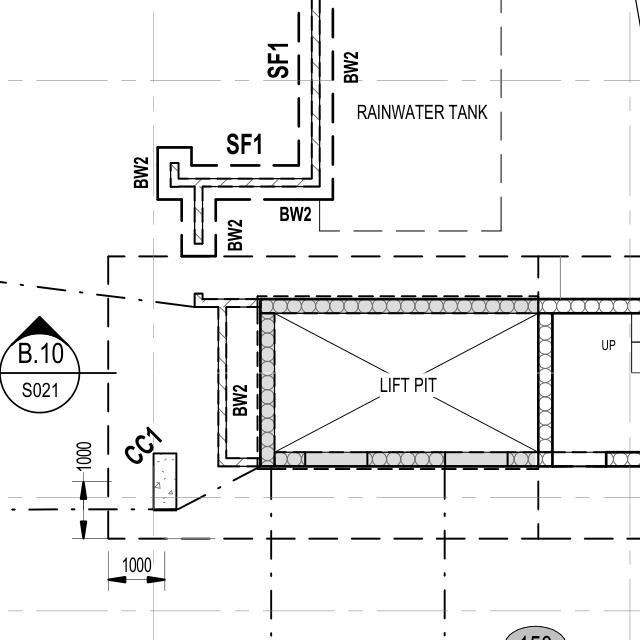BW2: (222, 379, 274, 432), (269, 195, 327, 236), (216, 208, 258, 260), (334, 42, 365, 86), (122, 150, 151, 189)
CC1: (113, 419, 163, 462)
SF1: (254, 28, 298, 85), (219, 118, 269, 161)
